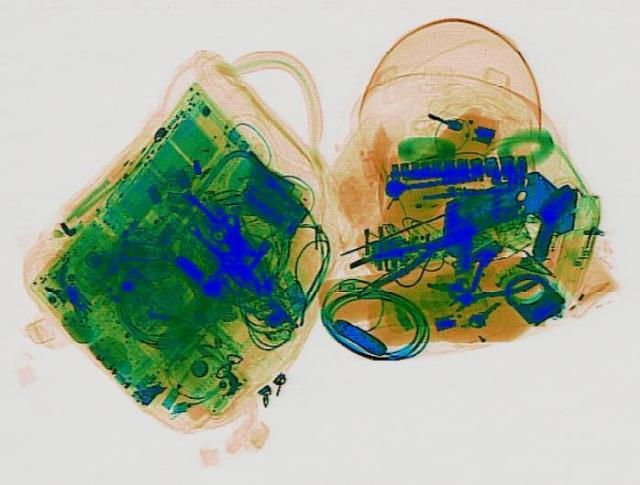Pliers: (427, 246, 541, 325), (344, 222, 468, 289)
